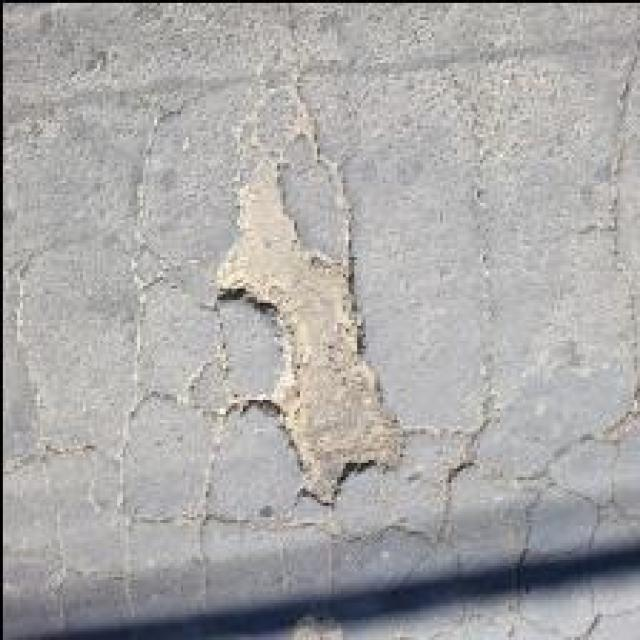BACHE: (219, 169, 401, 501)
GRIETA: (135, 67, 290, 209), (283, 12, 354, 272), (607, 37, 639, 279), (471, 183, 499, 444)
PIEL DE COCODRILO: (0, 207, 639, 639)
